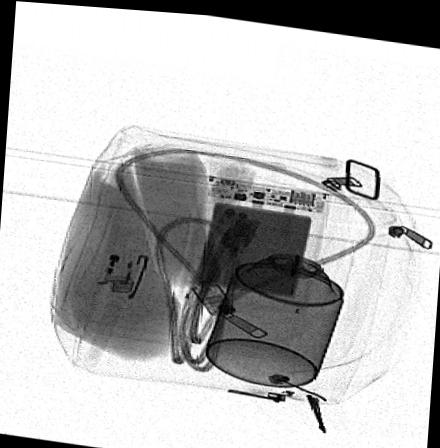Lighter: (95, 201, 148, 292)
Powerbank: (178, 170, 331, 309)
Sprayer: (202, 224, 354, 384)
